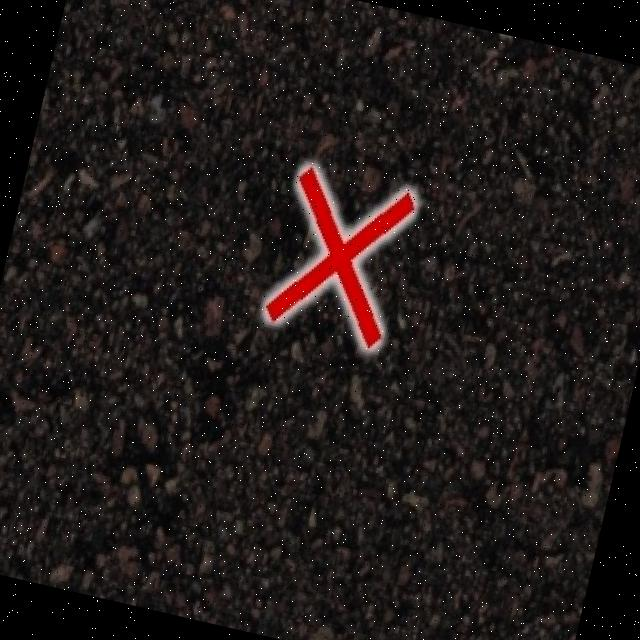x_marker: (262, 163, 416, 349)
